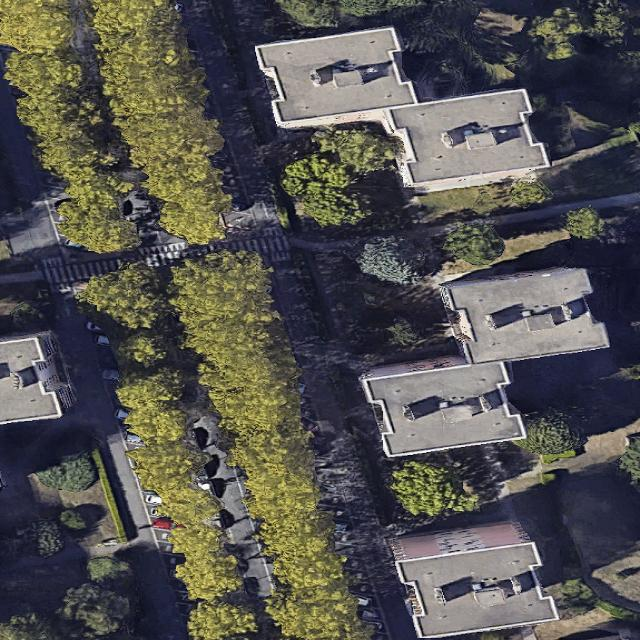immeuble: (391, 515, 558, 640), (387, 82, 550, 199), (360, 348, 525, 459), (441, 261, 608, 369), (255, 19, 416, 128), (0, 328, 77, 424)
